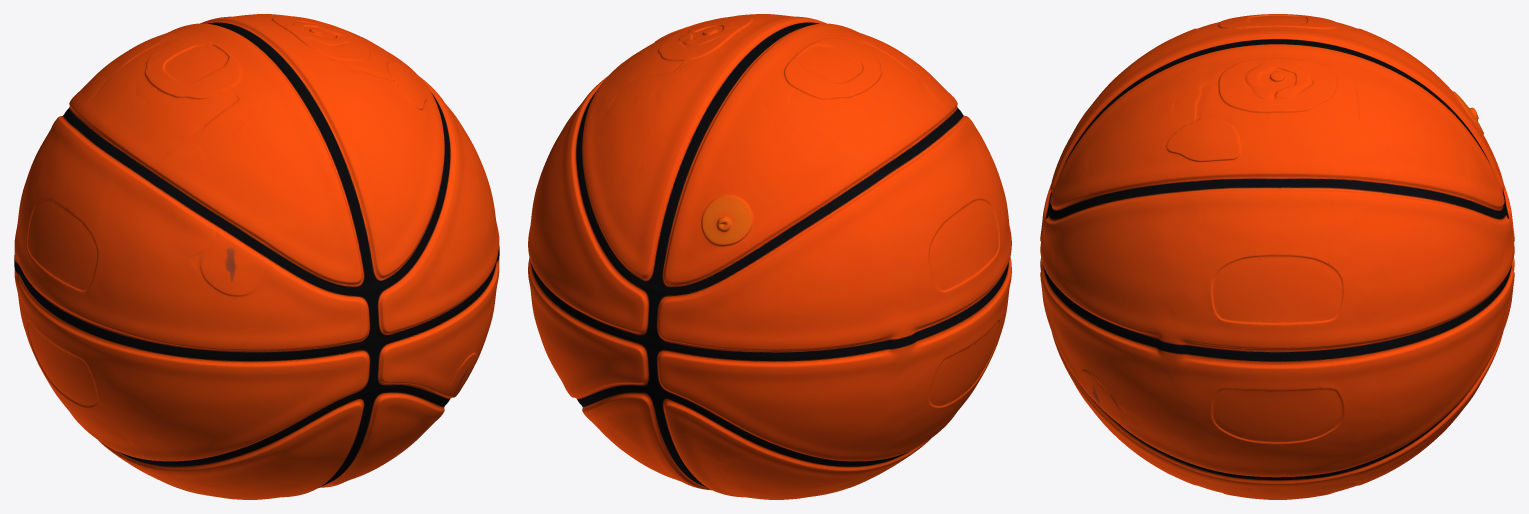
Rendered from basketball.glb.
3 renders of one model, left to right at view 1: azimuth 30°, elevation 25°; view 2: azimuth 150°, elevation 25°; view 3: azimuth 270°, elevation 25°, orthographic.
Size of the model in its own units: 1.9 by 1.89 by 1.87.
Materials: 1 (1 with a texture image).
